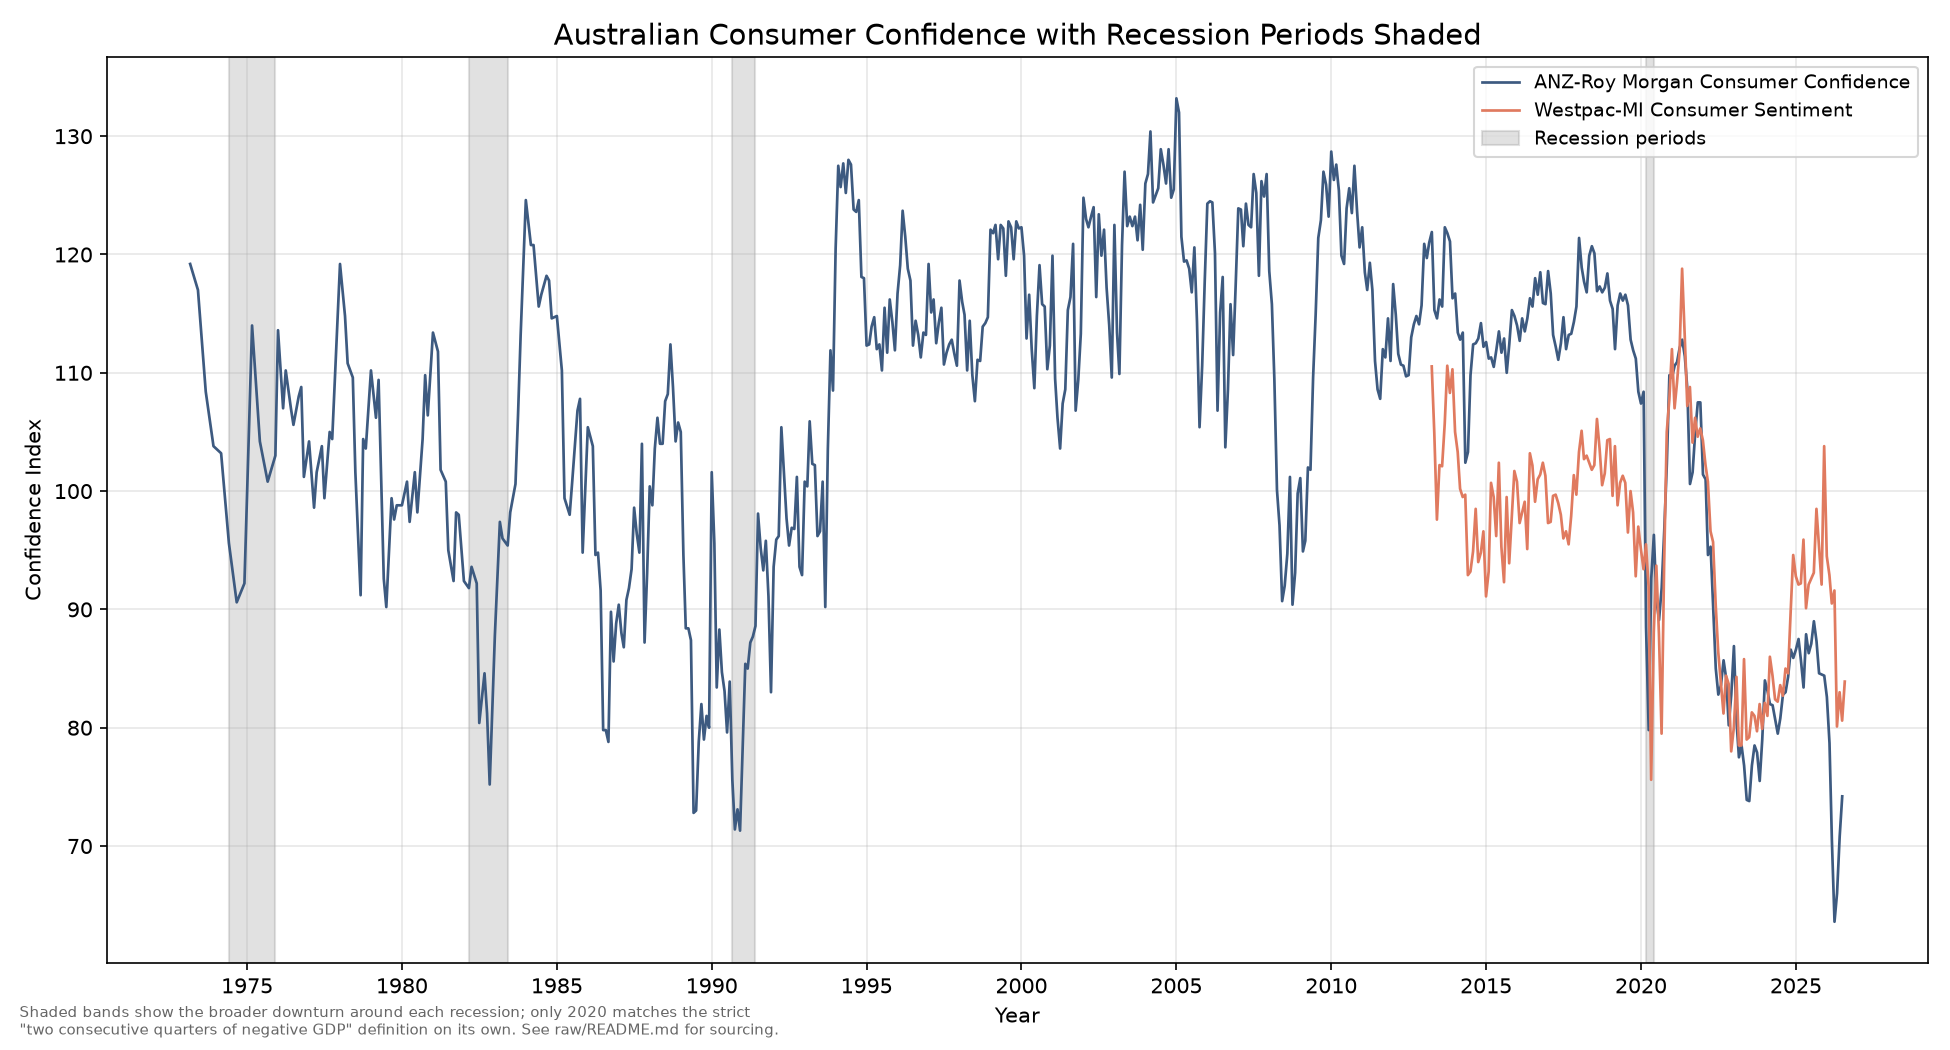

The page's visual inventory and layout, read from the dashboard file:
{"tool":"tableau","page":{"name":"Dashboard 1","canvas":[1200,700],"ordinal":0},"visuals":[{"type":"worksheet","title":"consumer-confidence","mark":"Line","cols":["date"],"box":[8,8,1024,684]},{"type":"legend","title":"consumer-confidence","param":"[federated.16z1r6t0gaf3ny17luwx31begjxi].[:Measure Names]","box":[1032,8,160,66]},{"type":"worksheet","title":"recessions","mark":"GanttBar","cols":["start_date"],"box":[72,57,959,575]},{"type":"text","box":[1032,74,160,112]}]}

Visuals, with their boxes on the page's 1200x700 design canvas (x1, y1, x2, y2). These are canvas units, not pixel positions in the 1950x1050 screenshot, which may show the page scaled, cropped or inside an application window:
"consumer-confidence" worksheet (Line marks): [8, 8, 1032, 692]
"consumer-confidence" legend: [1032, 8, 1192, 74]
"recessions" worksheet (GanttBar marks): [72, 57, 1031, 632]
text: [1032, 74, 1192, 186]
